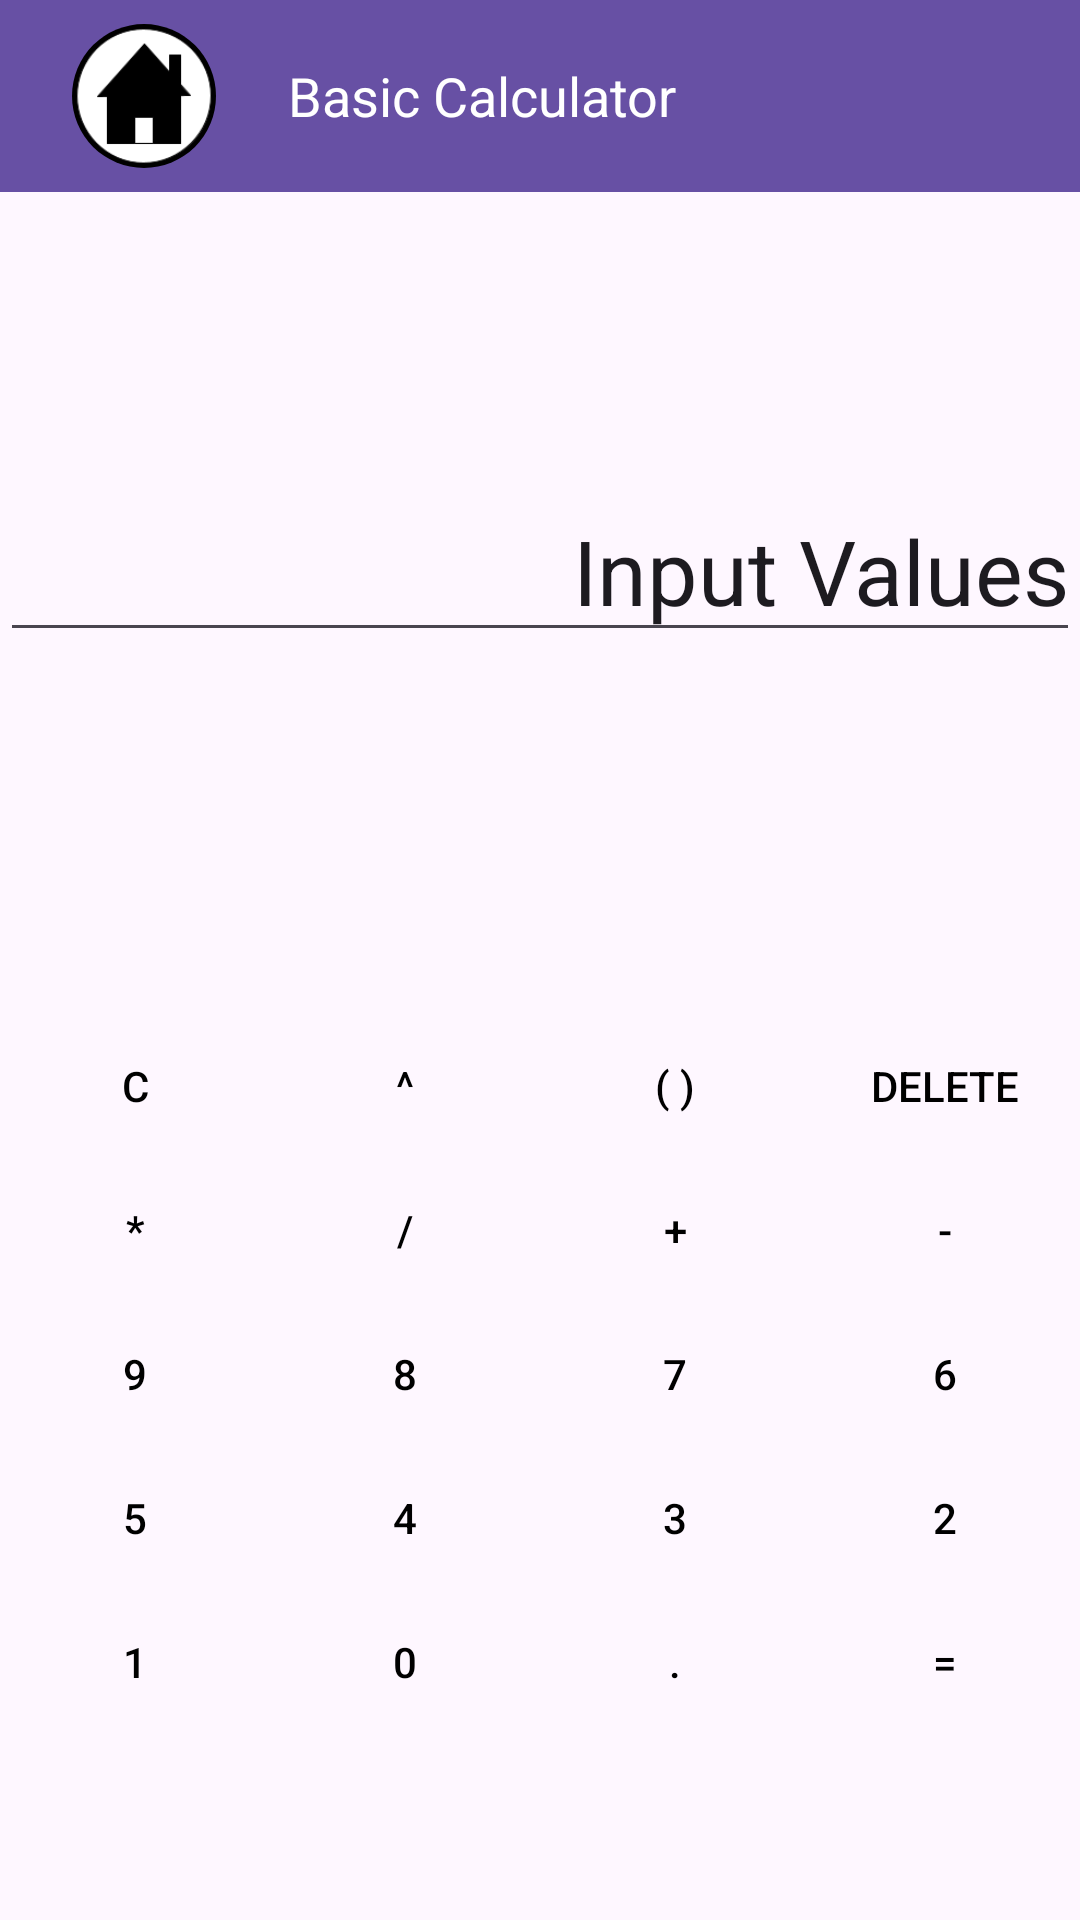

Screen size 1080 x 1920. Icon name, then its center in pixels as (x,y):
Home: (144,96)
